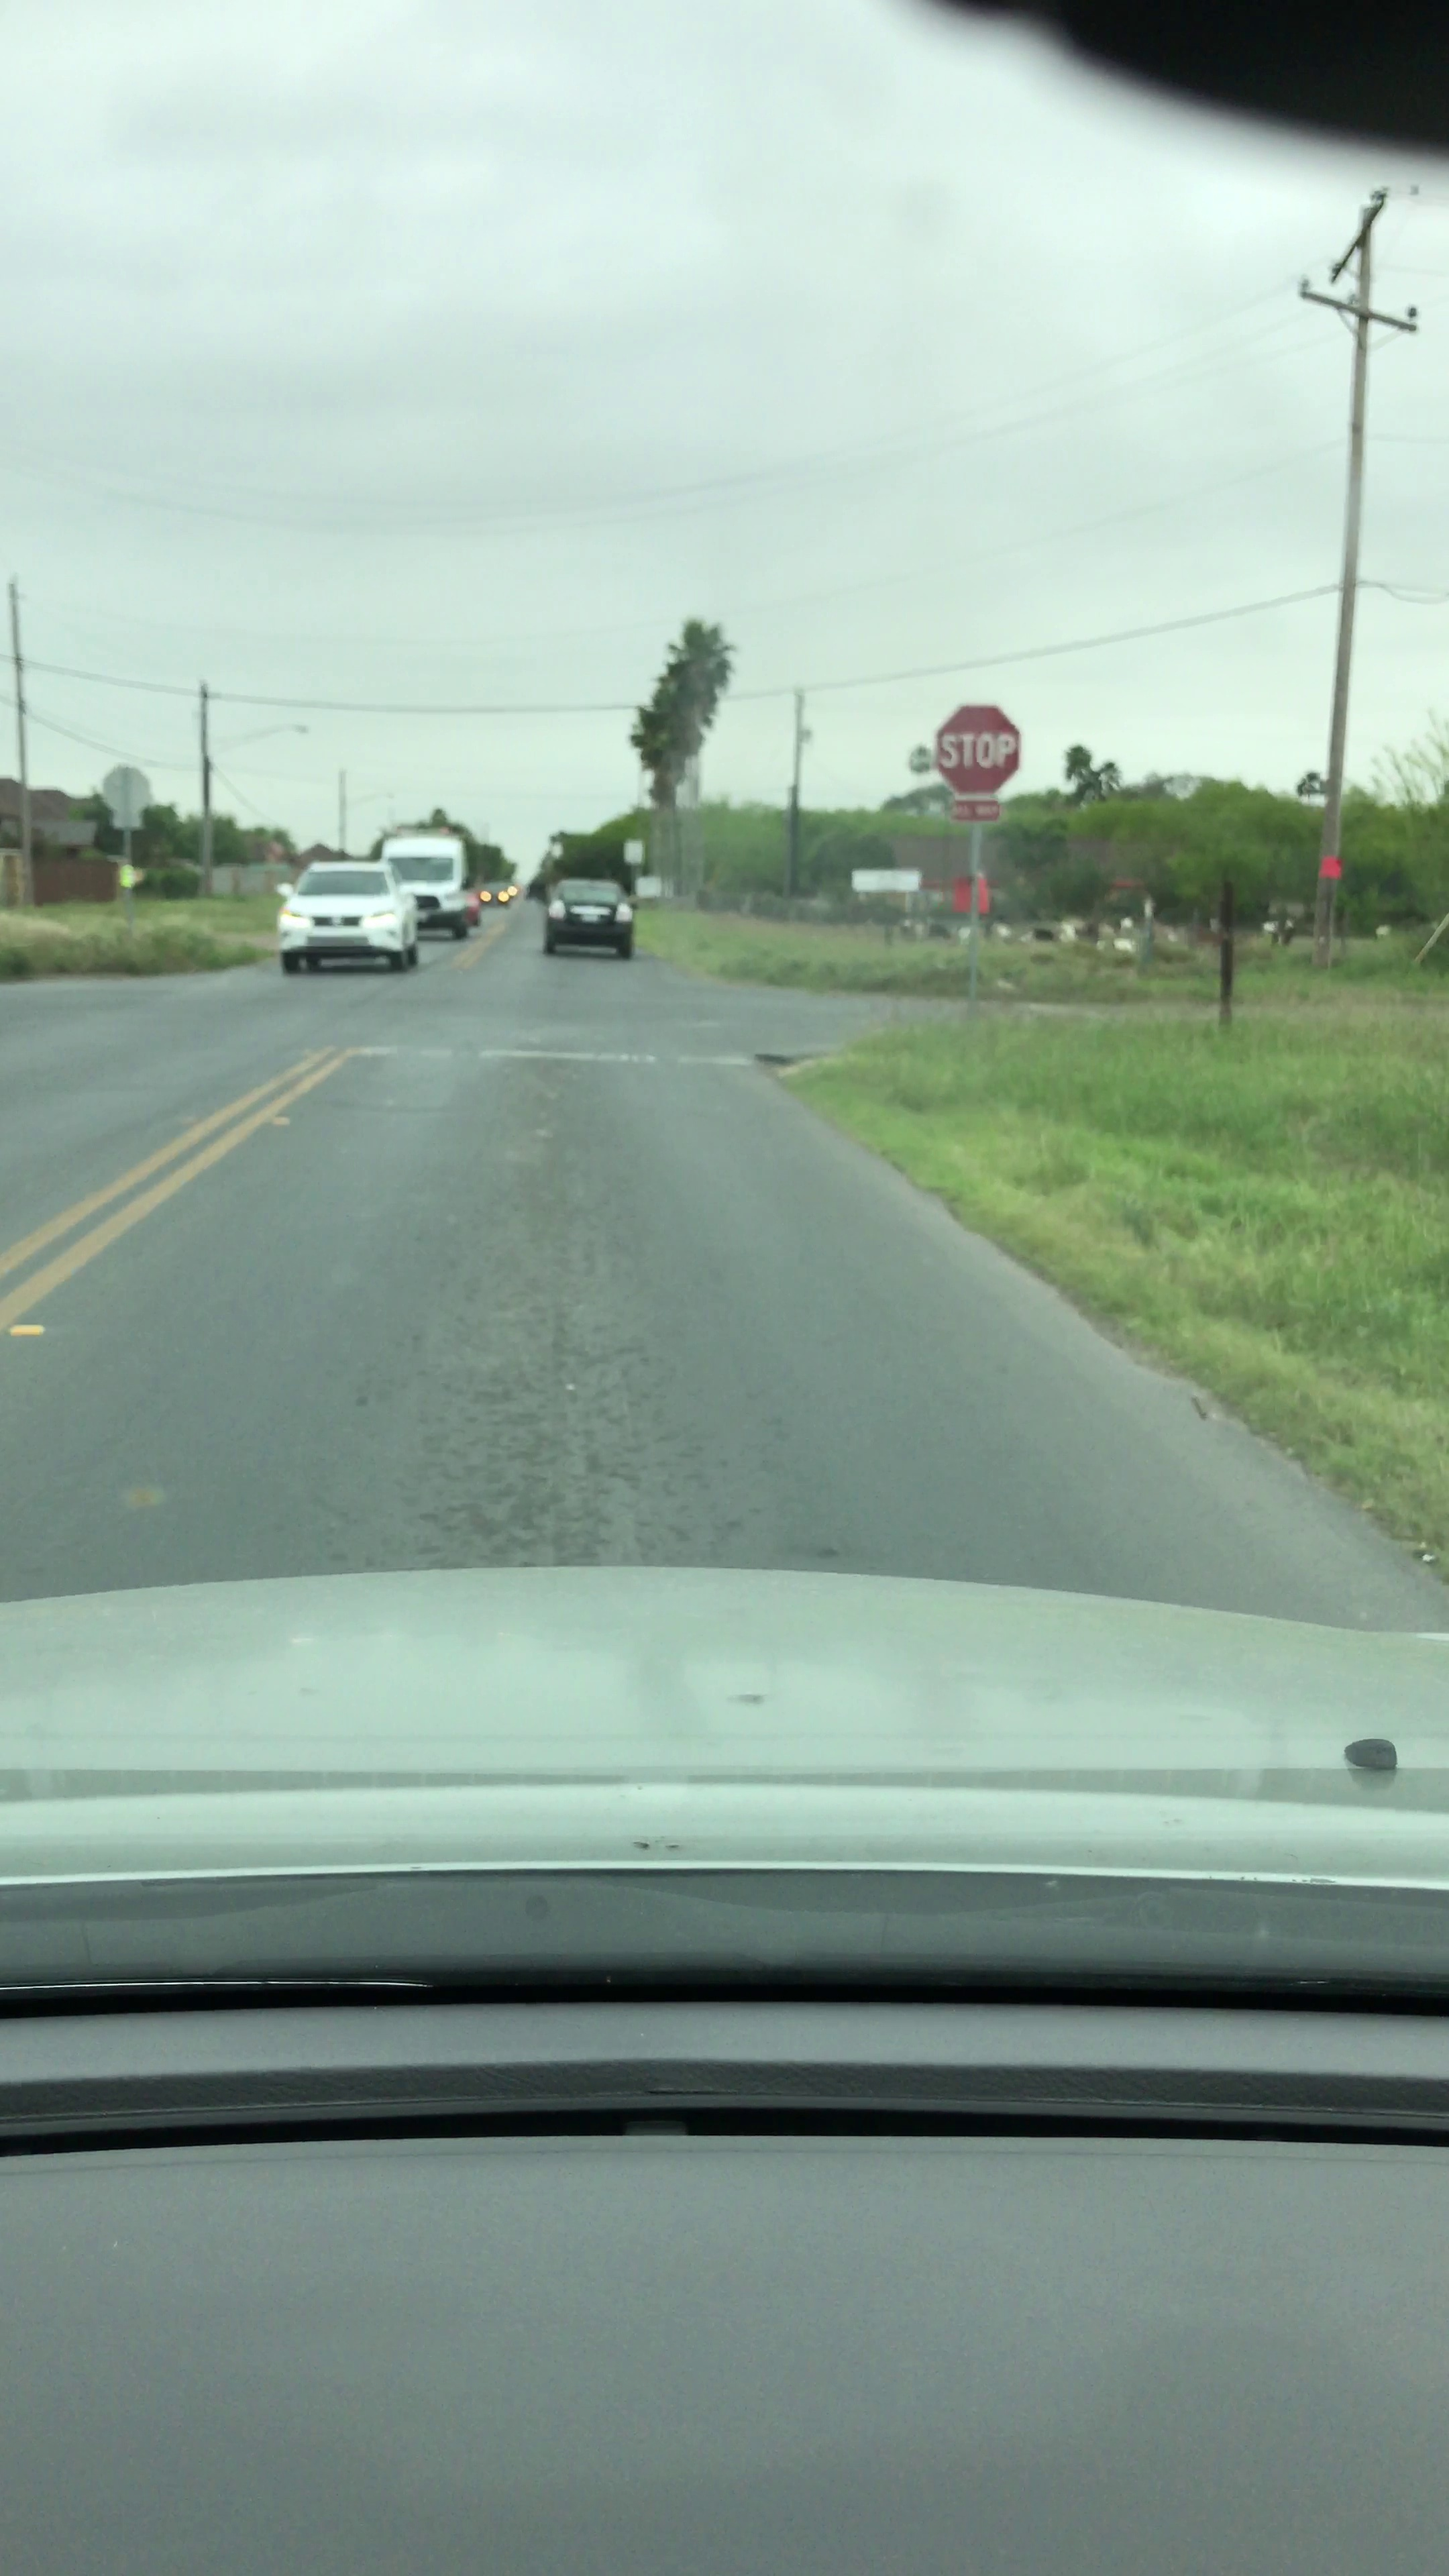blurredLine: (320, 1033, 764, 1083)
